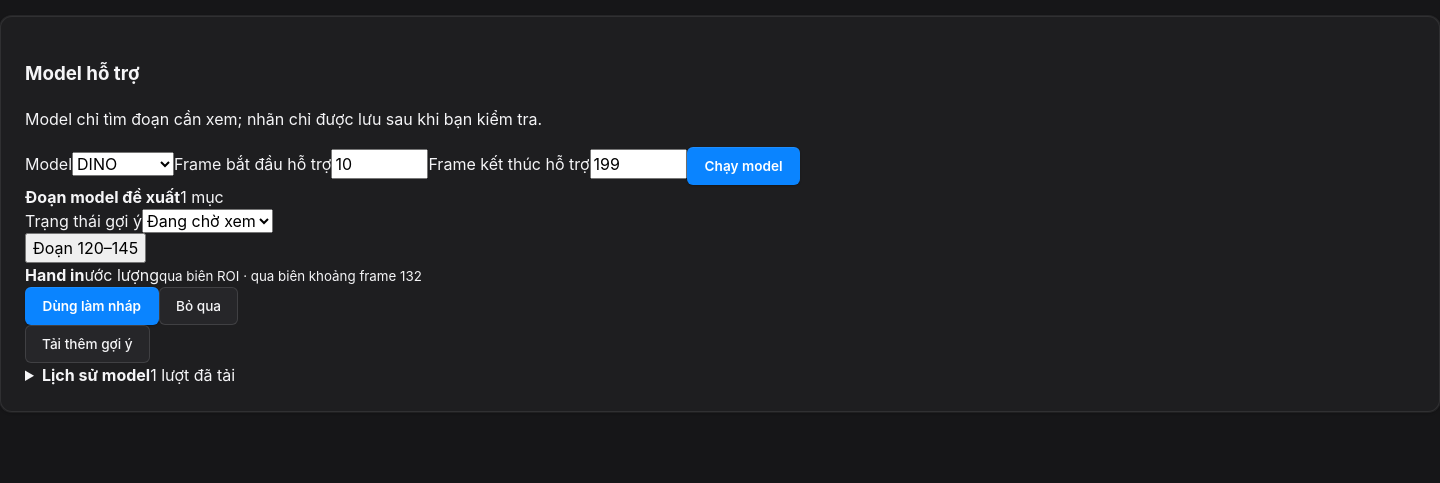
Test: loads a bounded next page of suggestions on demand
The width and height of the screenshot is (1440, 483).
Click the button "Tải thêm gợi ý" at (87, 344), box x1=25 y1=324 x2=150 y2=362
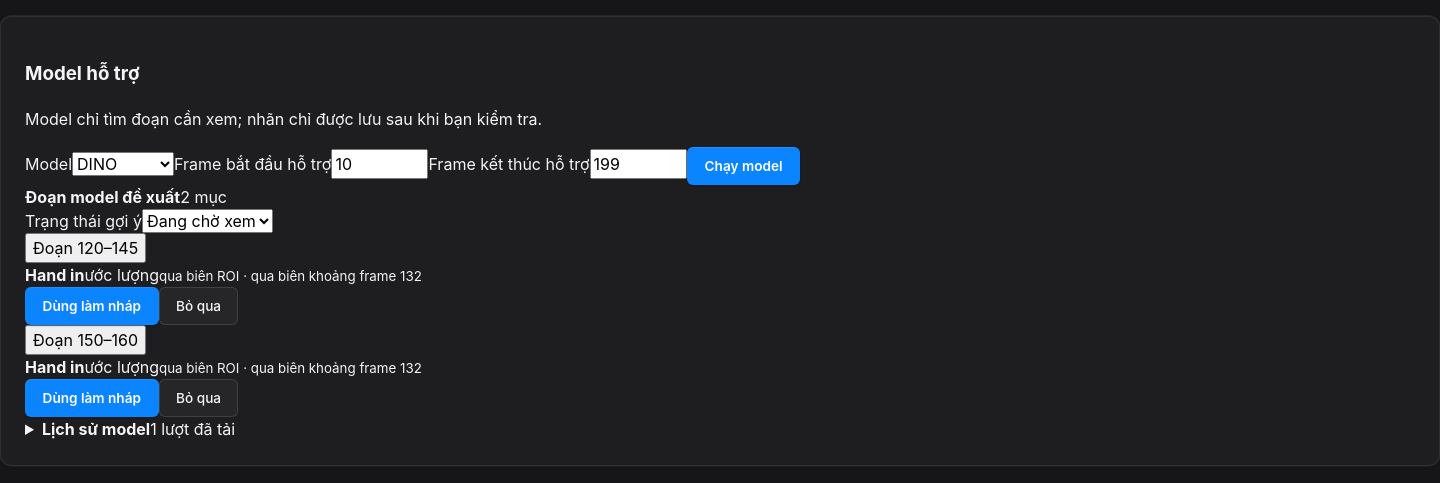
Result: the button "Đoạn 150–160" is shown at x1=25 y1=324 x2=146 y2=354
